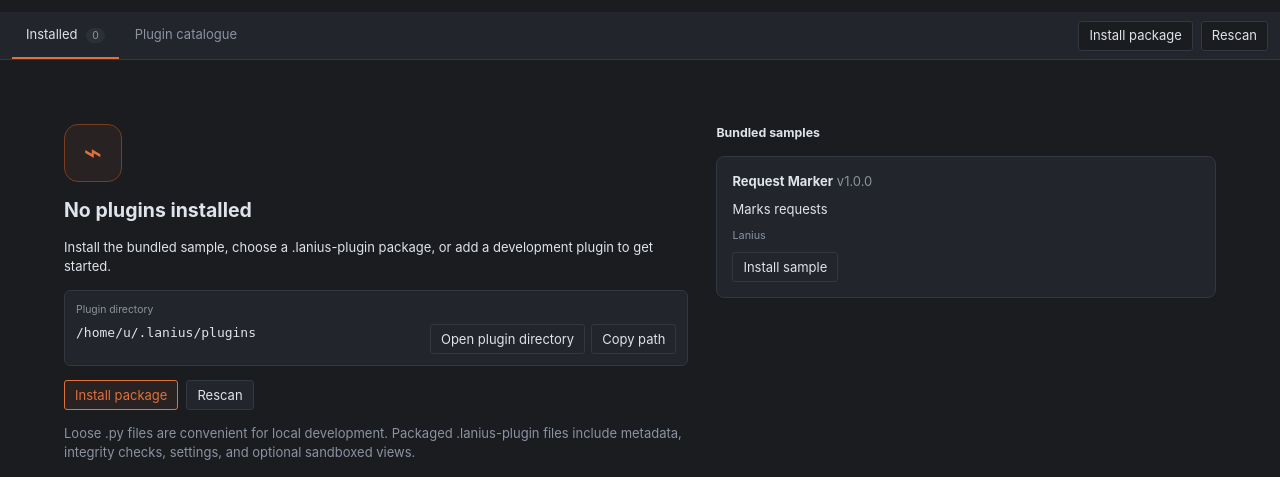
Test case: PluginsTab › confirms when the plugin directory is copied
Click the button "Copy path". click: (634, 339)
box: [591, 324, 676, 354]
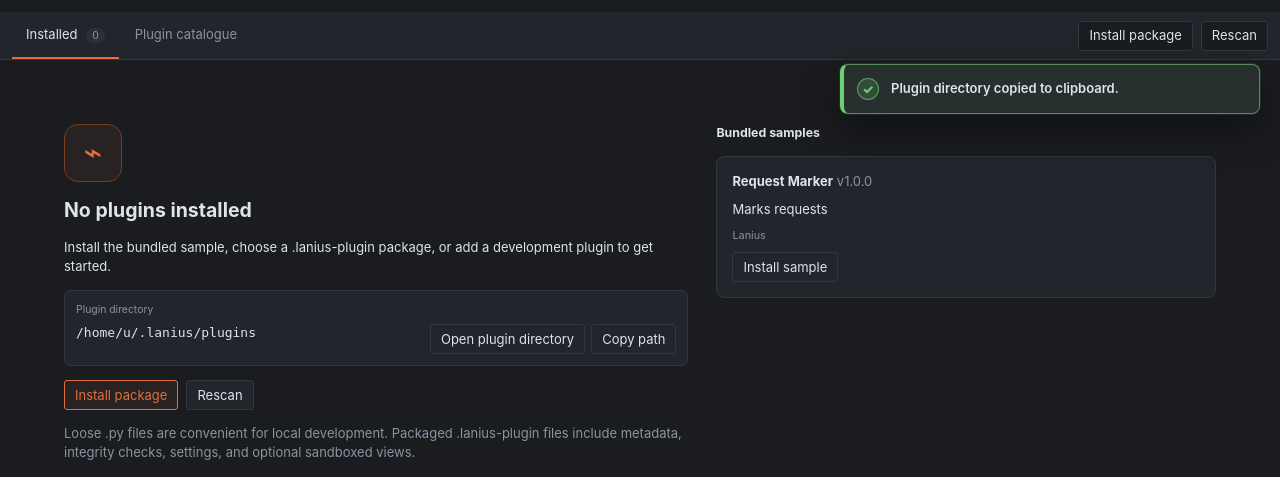
Now the text "Plugin directory copied to clipboard." is shown, box [891, 80, 1119, 96]
